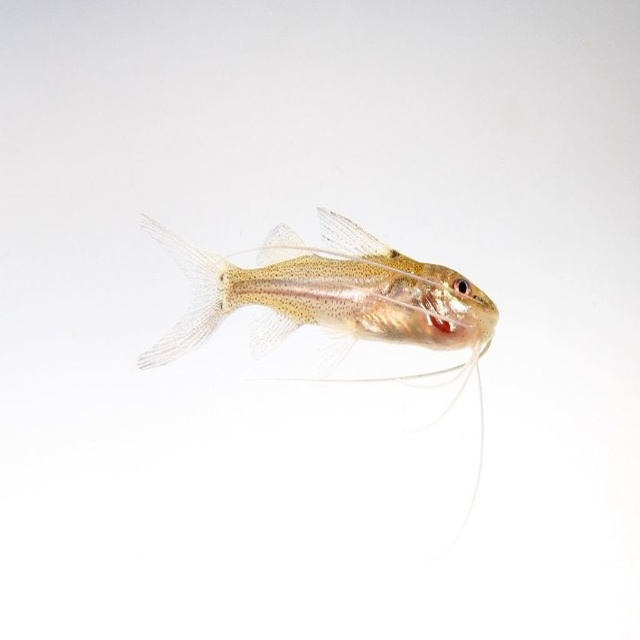Fish: (121, 194, 507, 512)
